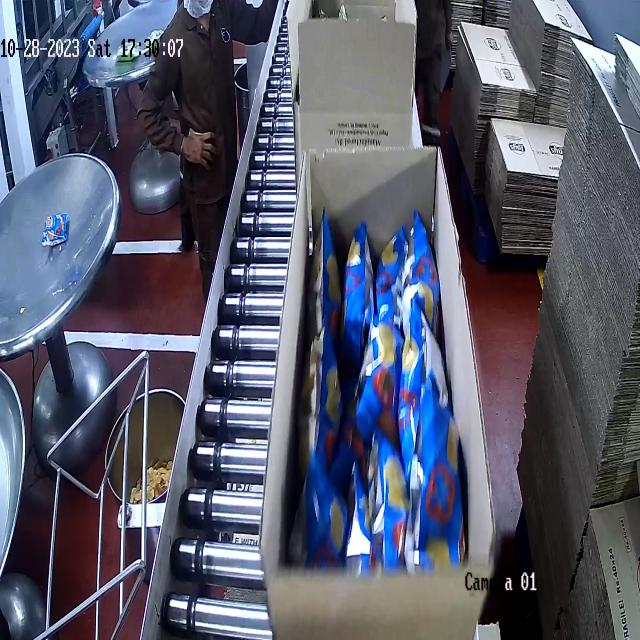PAPRIKA: (300, 184, 470, 575)
